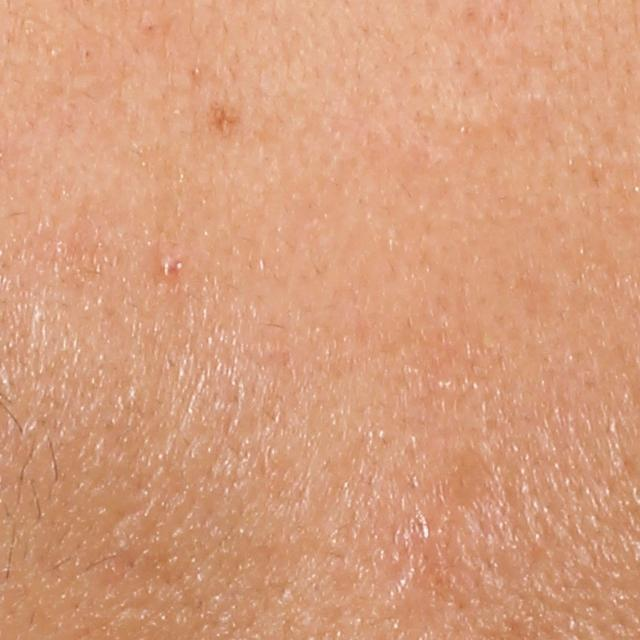comedo: (156, 246, 180, 272)
